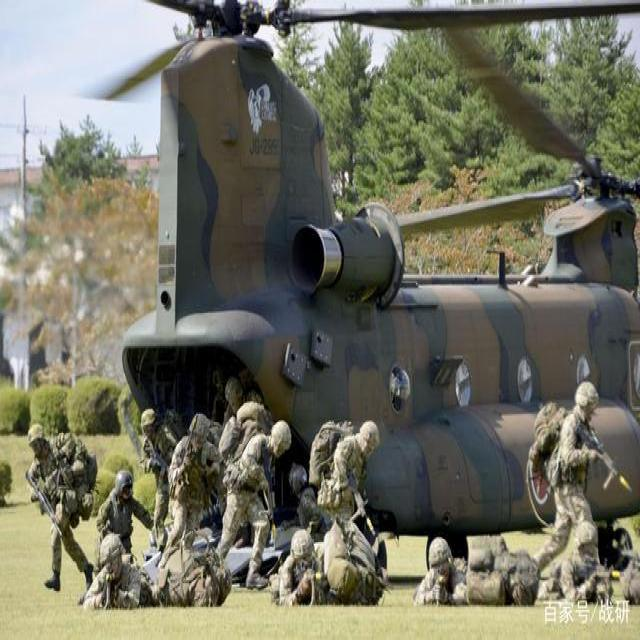MIL_HELO: (82, 0, 640, 563)
